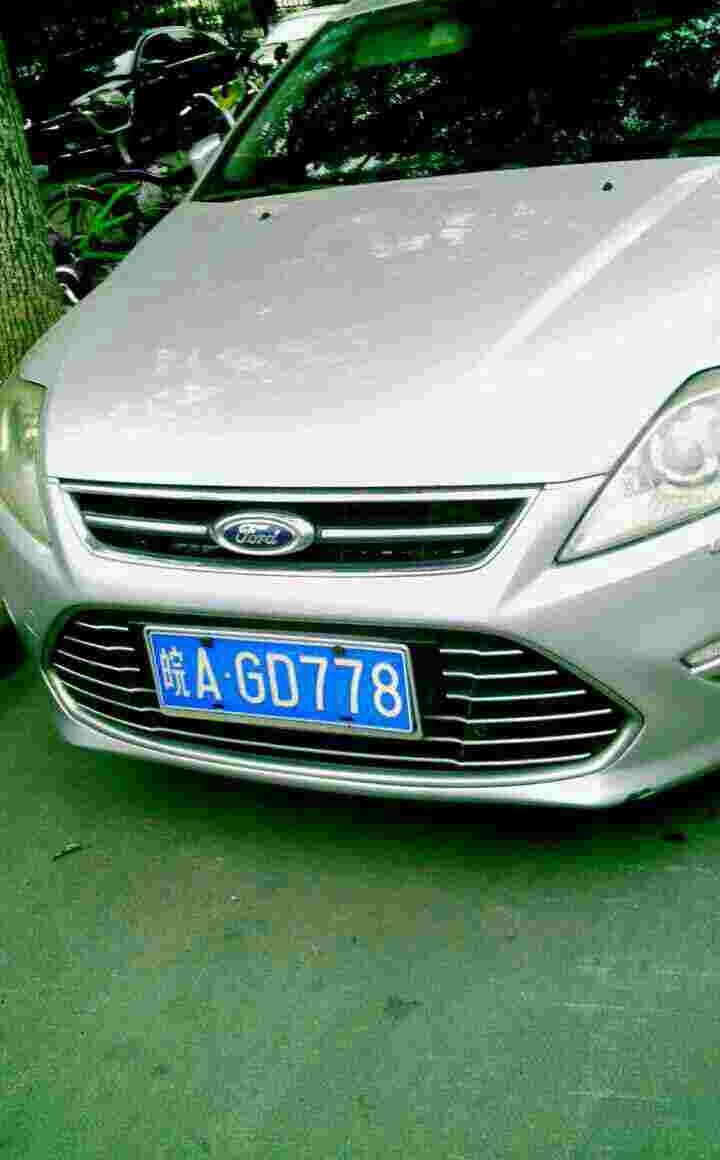license_plate: (152, 628, 404, 735)
